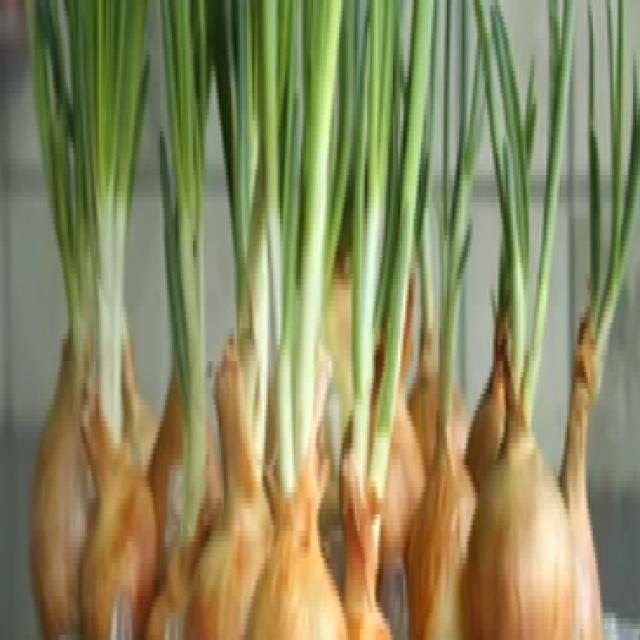sprouting: (56, 230, 132, 438), (266, 235, 320, 476), (220, 169, 258, 487), (170, 339, 216, 547), (566, 262, 610, 460), (490, 300, 541, 460)
